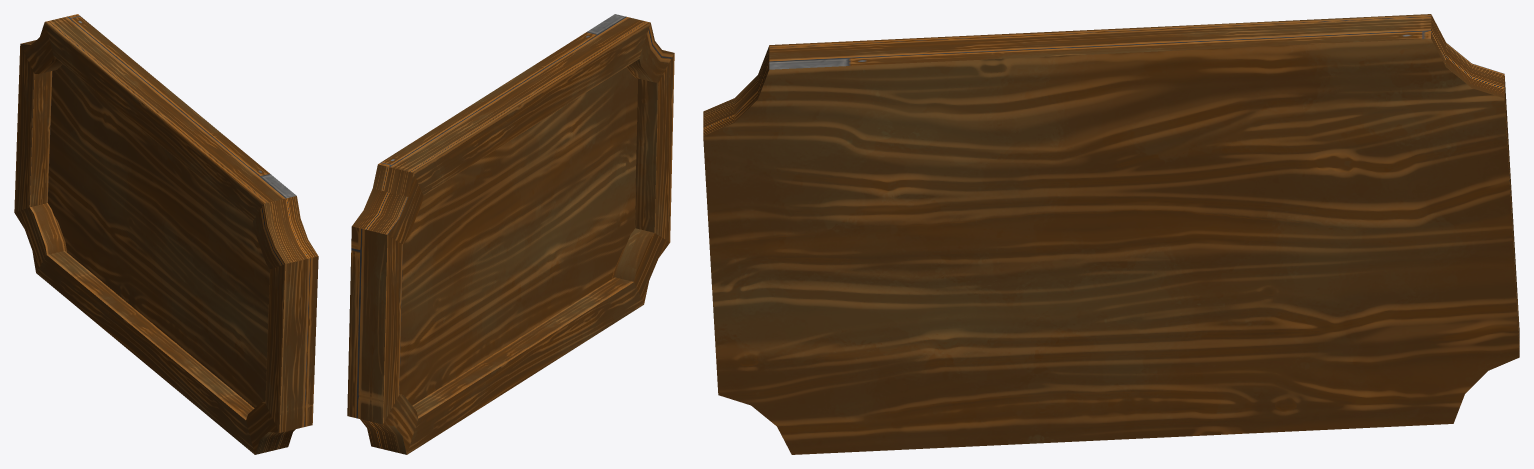
3 views of the same model, side by side, from view 1: azimuth 30°, elevation 25°; view 2: azimuth 150°, elevation 25°; view 3: azimuth 270°, elevation 25° (orthographic). The views are drawn at different scales.
Parts seen in each view (by area): view 1: Cube.397; view 2: Cube.397; view 3: Cube.397.
Part boxes in pixels (x1,y1,x2,y2): Cube.397: [14, 14, 318, 454]; Cube.397: [347, 14, 674, 454]; Cube.397: [703, 14, 1519, 454].
Size of the model in its own units: 12.82 by 96.71 by 171.
Materials: 1 (1 with a texture image).
